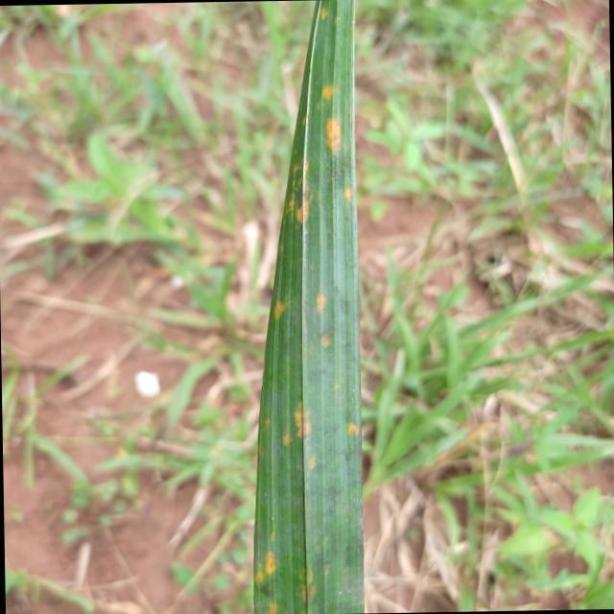Kalium: (253, 0, 361, 614)
